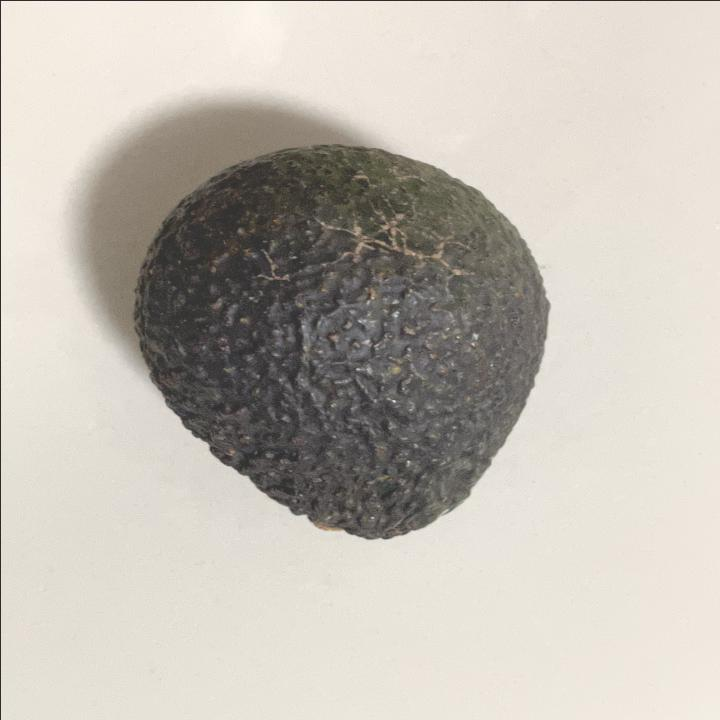Level1: (122, 136, 564, 547)
